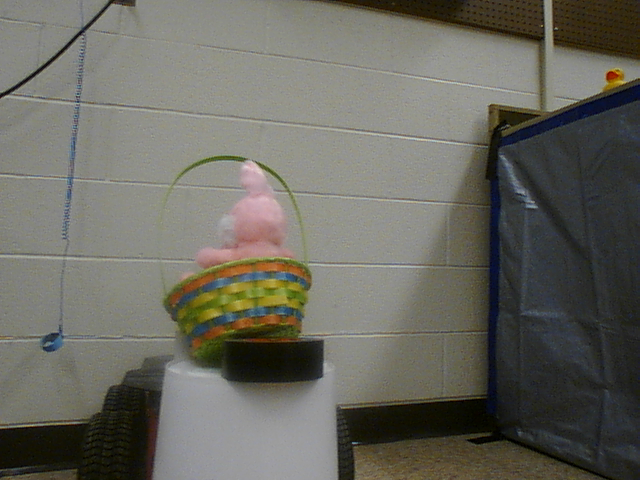bunny: (150, 145, 317, 357)
